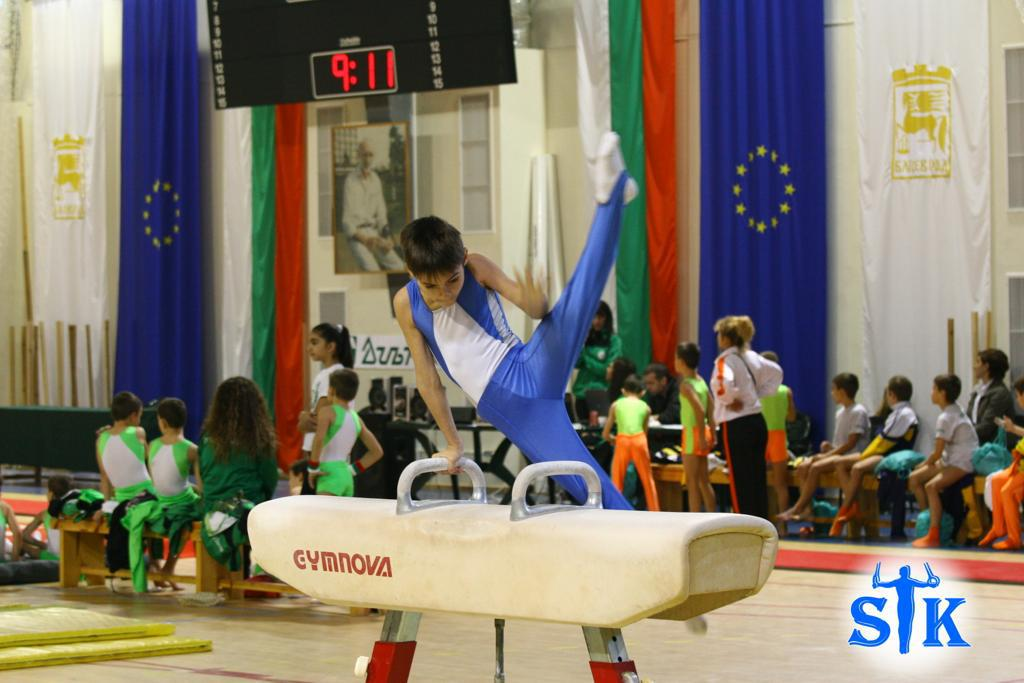face: (419, 268, 464, 305), (310, 336, 330, 361), (645, 373, 663, 395), (591, 311, 606, 330), (361, 148, 376, 165), (974, 360, 988, 378), (1015, 386, 1024, 410), (676, 352, 686, 372), (716, 329, 726, 349), (833, 385, 843, 405), (932, 384, 943, 402), (607, 363, 617, 379), (887, 388, 896, 405)
